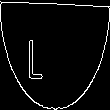L_N: (47, 29, 63, 81)
